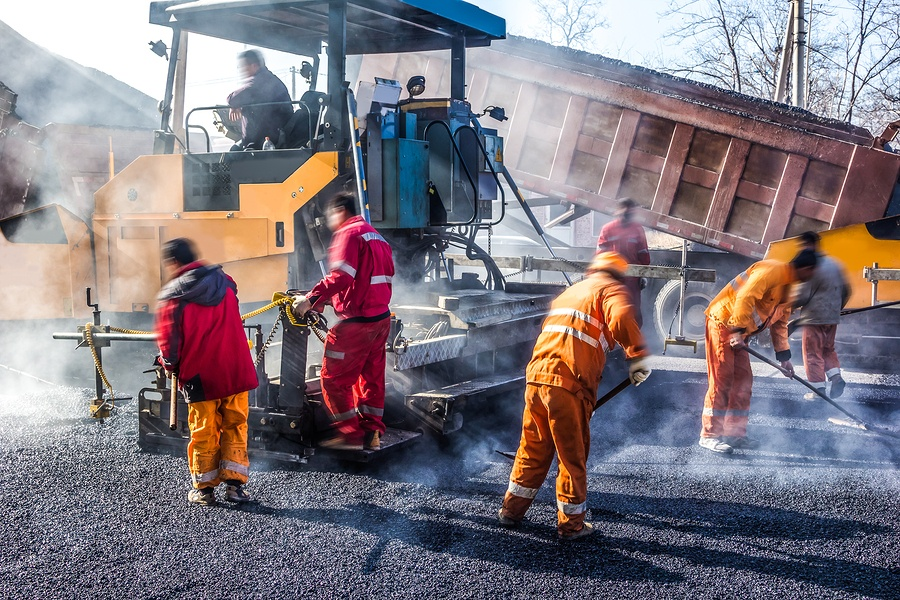none: (160, 236, 196, 273), (322, 193, 355, 229), (786, 247, 819, 282), (235, 48, 265, 79), (796, 230, 821, 255), (614, 198, 635, 224)
yellow: (590, 247, 628, 283)
